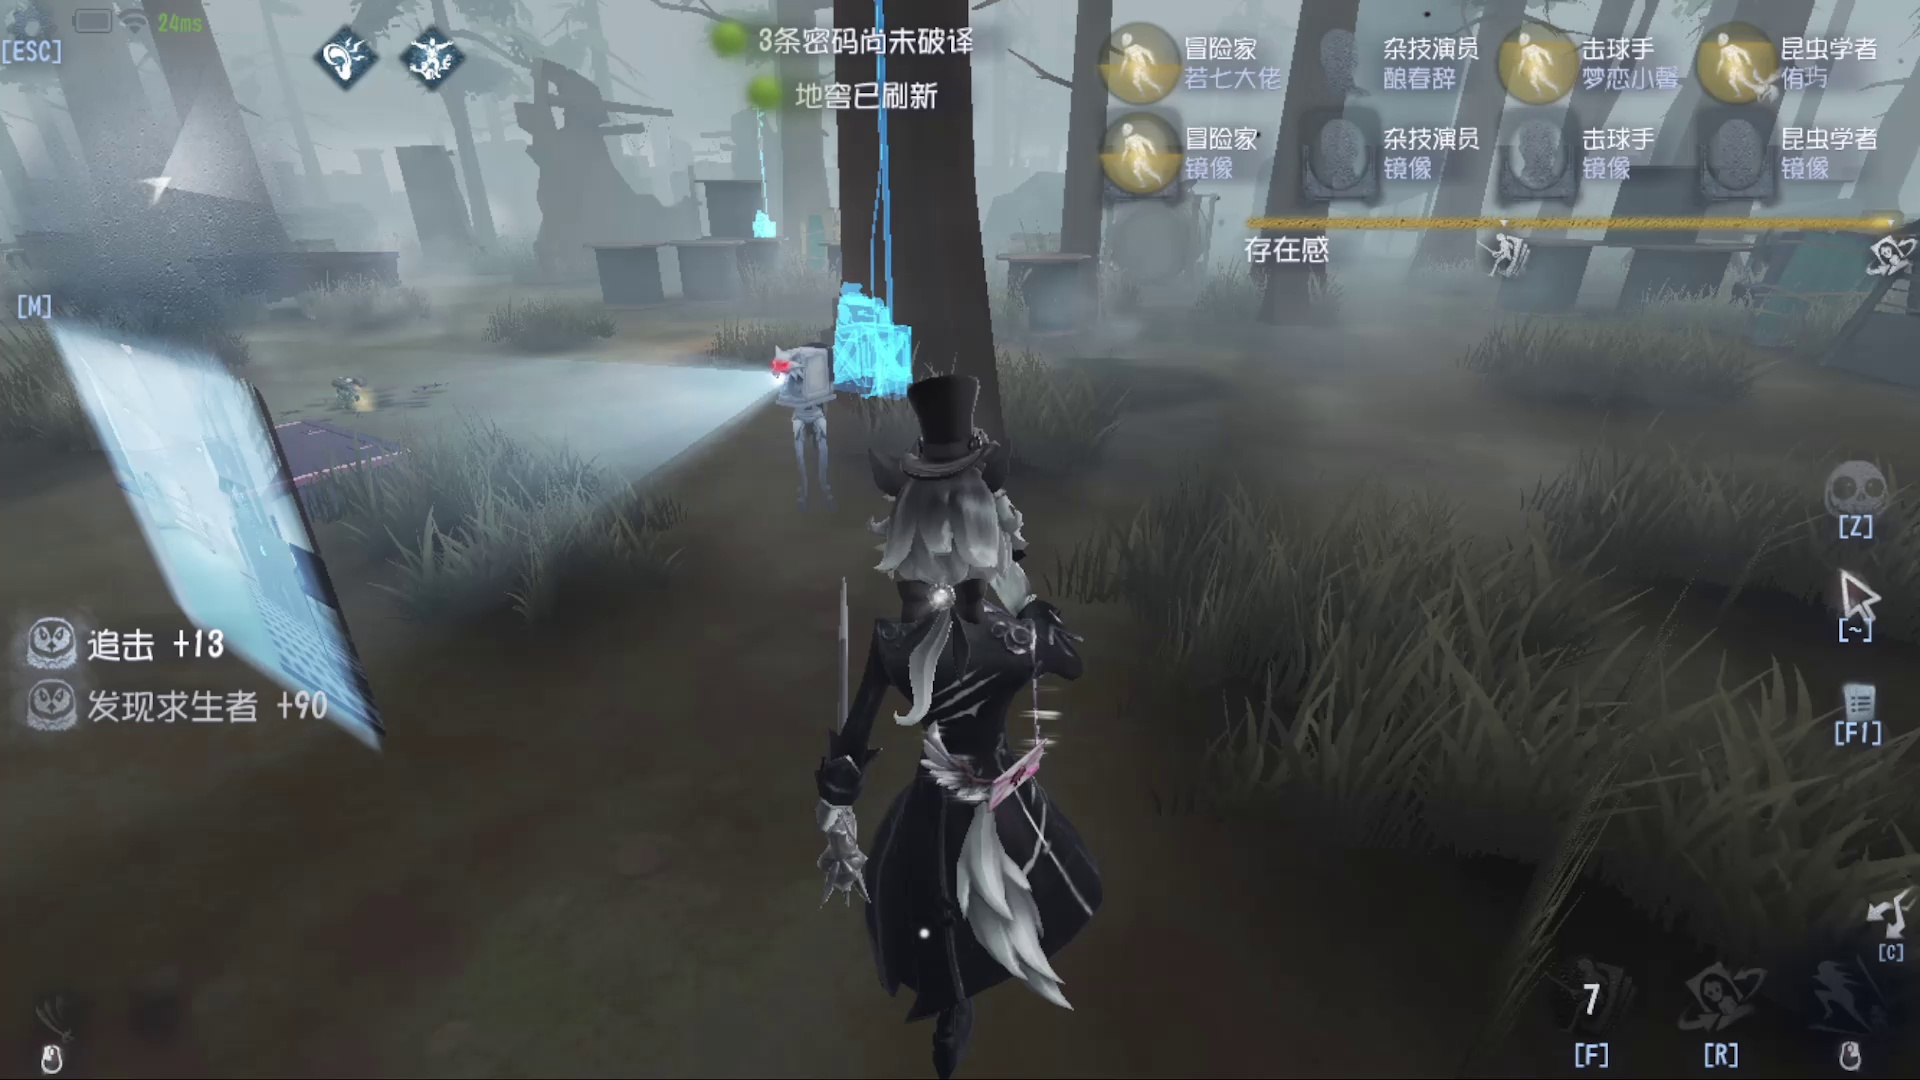密码机: (818, 17, 932, 392)
求生者: (307, 363, 378, 417)
